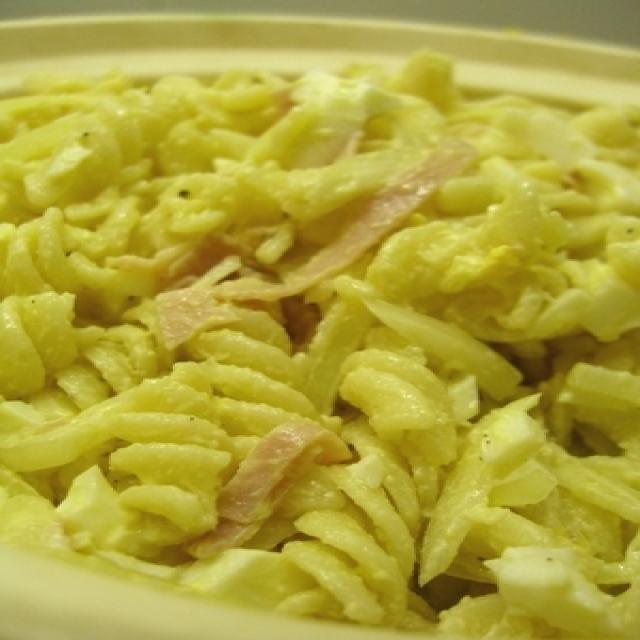蔬菜料理: (0, 0, 640, 634)
